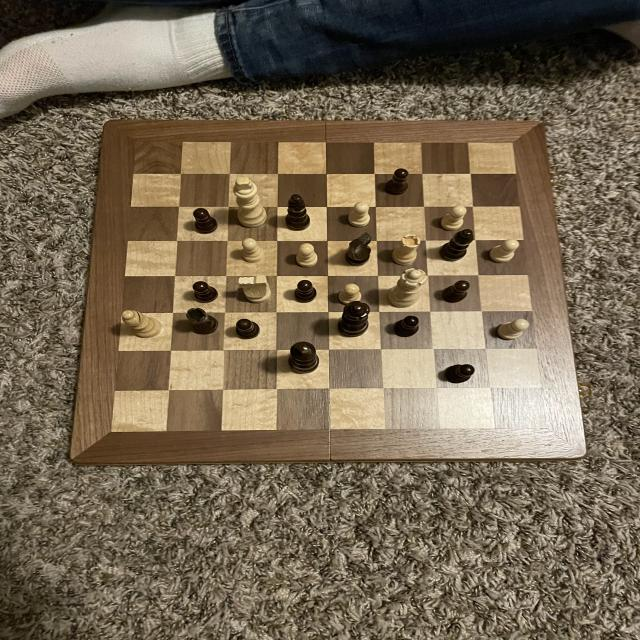bishop: (438, 228, 479, 264), (283, 194, 315, 233)
black-bishop: (285, 341, 324, 375)
black-king: (342, 232, 378, 269)
black-knight: (383, 167, 414, 199), (190, 206, 220, 237), (440, 279, 473, 306), (291, 277, 321, 305), (442, 362, 476, 386), (390, 314, 422, 339), (191, 280, 222, 305), (232, 318, 264, 340)
black-pawn: (335, 300, 373, 340)
black-queen: (186, 306, 223, 336)
black-rook: (115, 308, 167, 341)
white-bishop: (231, 174, 271, 231)
white-king: (236, 273, 277, 306)
white-knight: (438, 204, 470, 233), (494, 318, 532, 342), (292, 241, 321, 269), (238, 237, 268, 264), (346, 200, 374, 228), (489, 238, 519, 264), (336, 282, 366, 306)
white-pawn: (384, 269, 432, 310)
white-queen: (388, 234, 422, 267)
